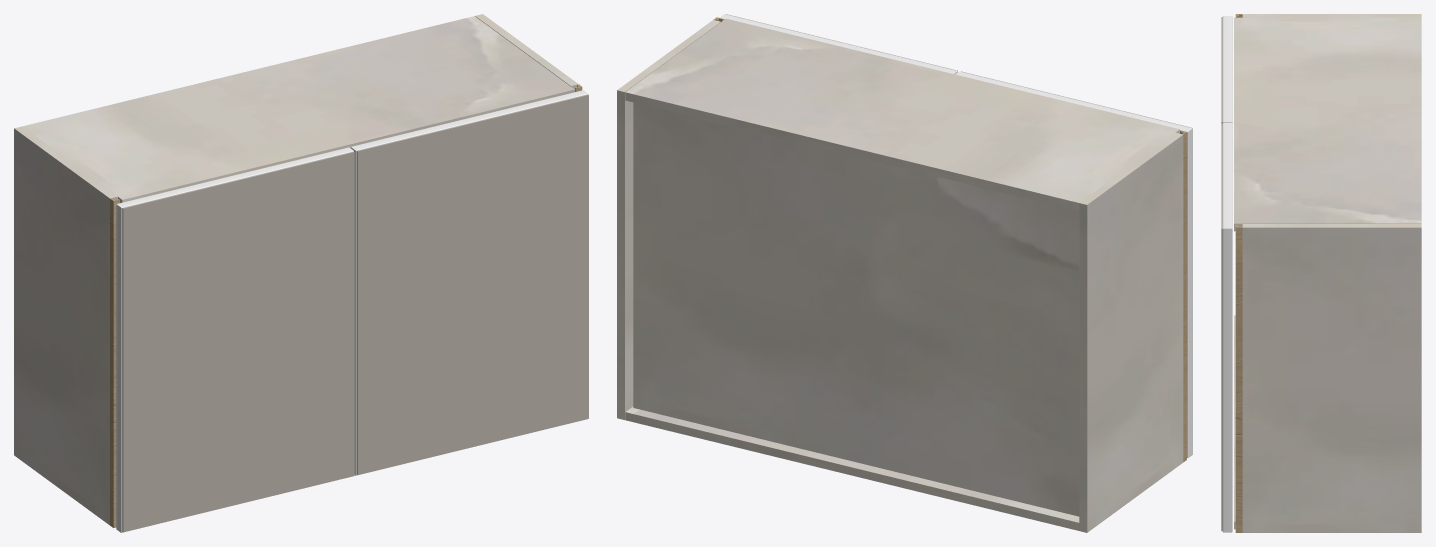
File: WALL LOFT BLIND CABINET 1 SHELF (H600xW900xD336) S450_WBC1S1HS_RH.glb
The picture shows the model from 3 angles, left to right: view 1: azimuth 30°, elevation 25°; view 2: azimuth 150°, elevation 25°; view 3: azimuth 270°, elevation 25°; orthographic projection. The views are drawn at different scales.
Size of what is drawn, in the model's own units: 0.9 by 0.6 by 0.3568.
Materials: 6 (3 with a texture image).
